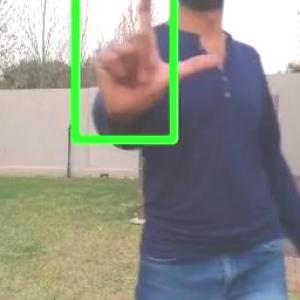land_hand: (90, 0, 224, 124)
